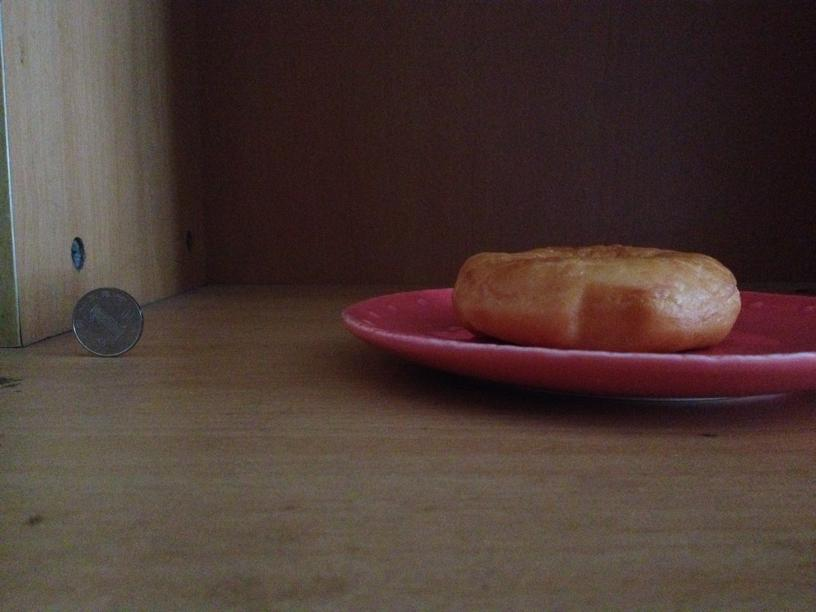coin: (69, 287, 144, 357)
doughnut: (451, 245, 741, 347)
